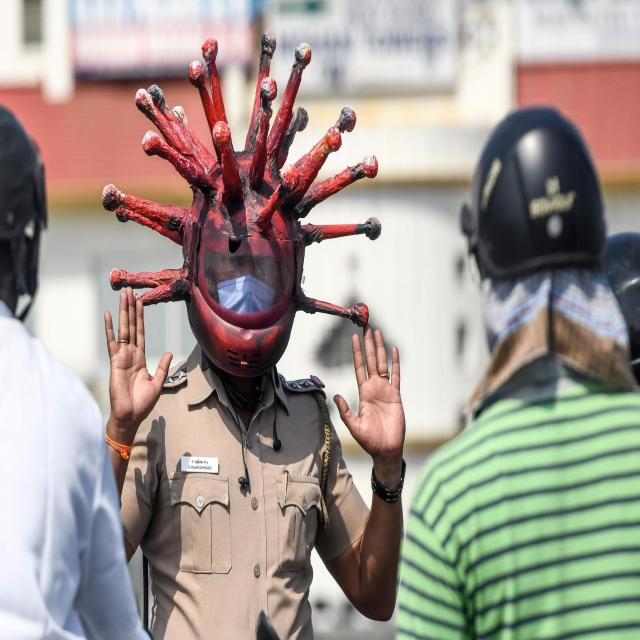illegal_helmet: (100, 21, 388, 388), (455, 96, 619, 386)
